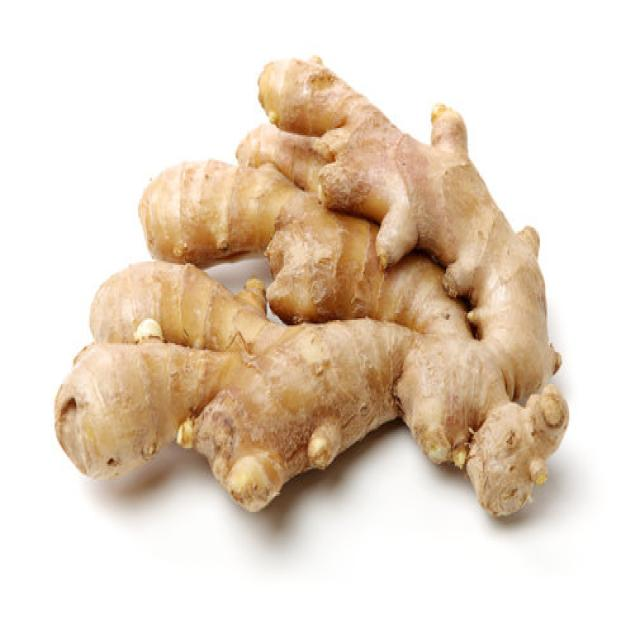Ginger: (56, 57, 574, 508)
